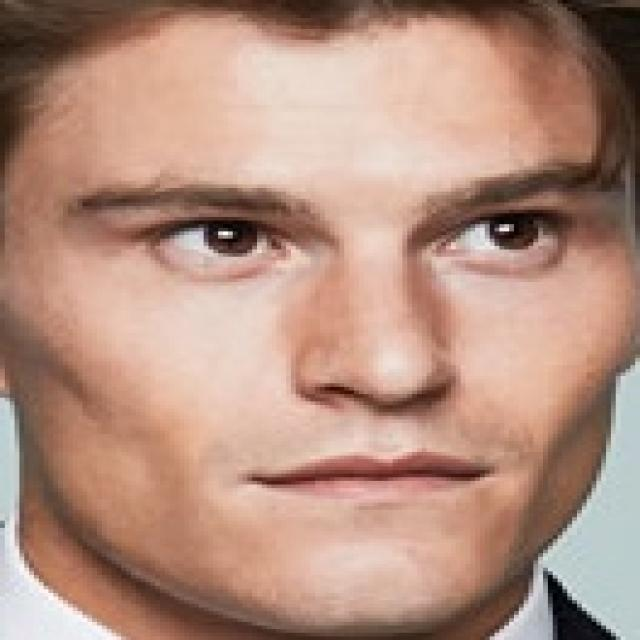0_rostro_limpio: (0, 7, 635, 633)
